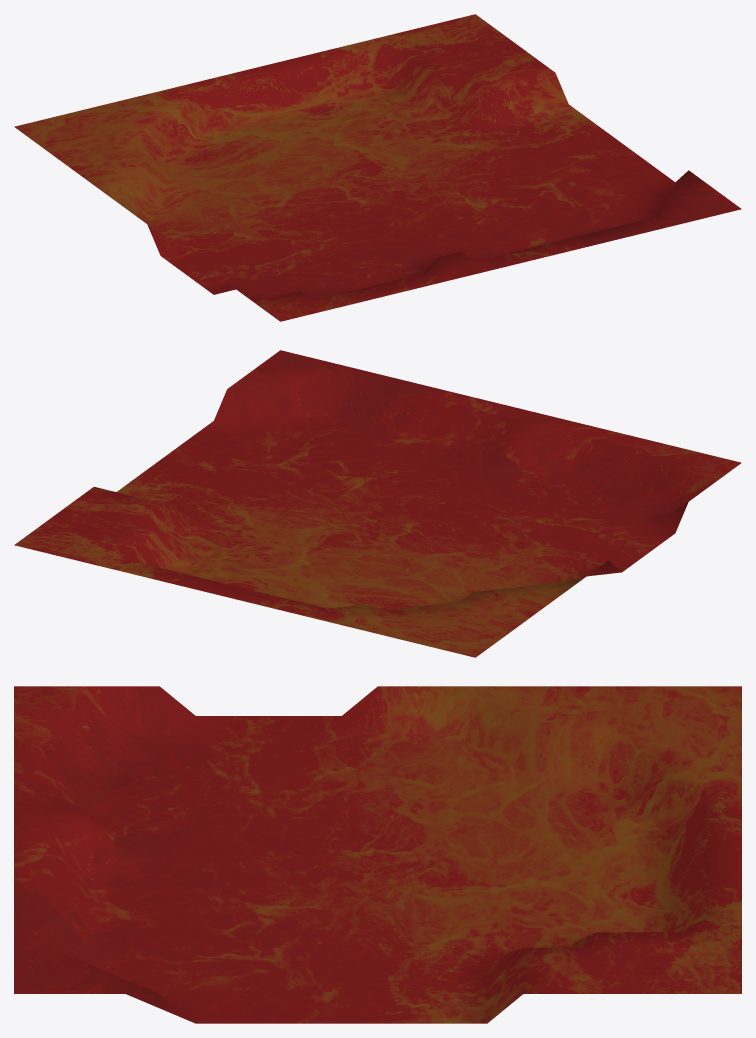
The model's file is mar.obj.
The picture shows the model from 3 angles, top to bottom: view 1: azimuth 30°, elevation 25°; view 2: azimuth 150°, elevation 25°; view 3: azimuth 270°, elevation 25°; orthographic projection. The views are drawn at different scales.
Parts seen in each view (by area): view 1: mar1; view 2: mar1; view 3: mar1.
Part boxes in pixels (<box>): mar1: <box>14,14,741,321</box>; mar1: <box>14,350,741,657</box>; mar1: <box>14,686,741,1023</box>.
Size of the model in its own units: 5000 by 227 by 5000.
1 material, 1 textured.
